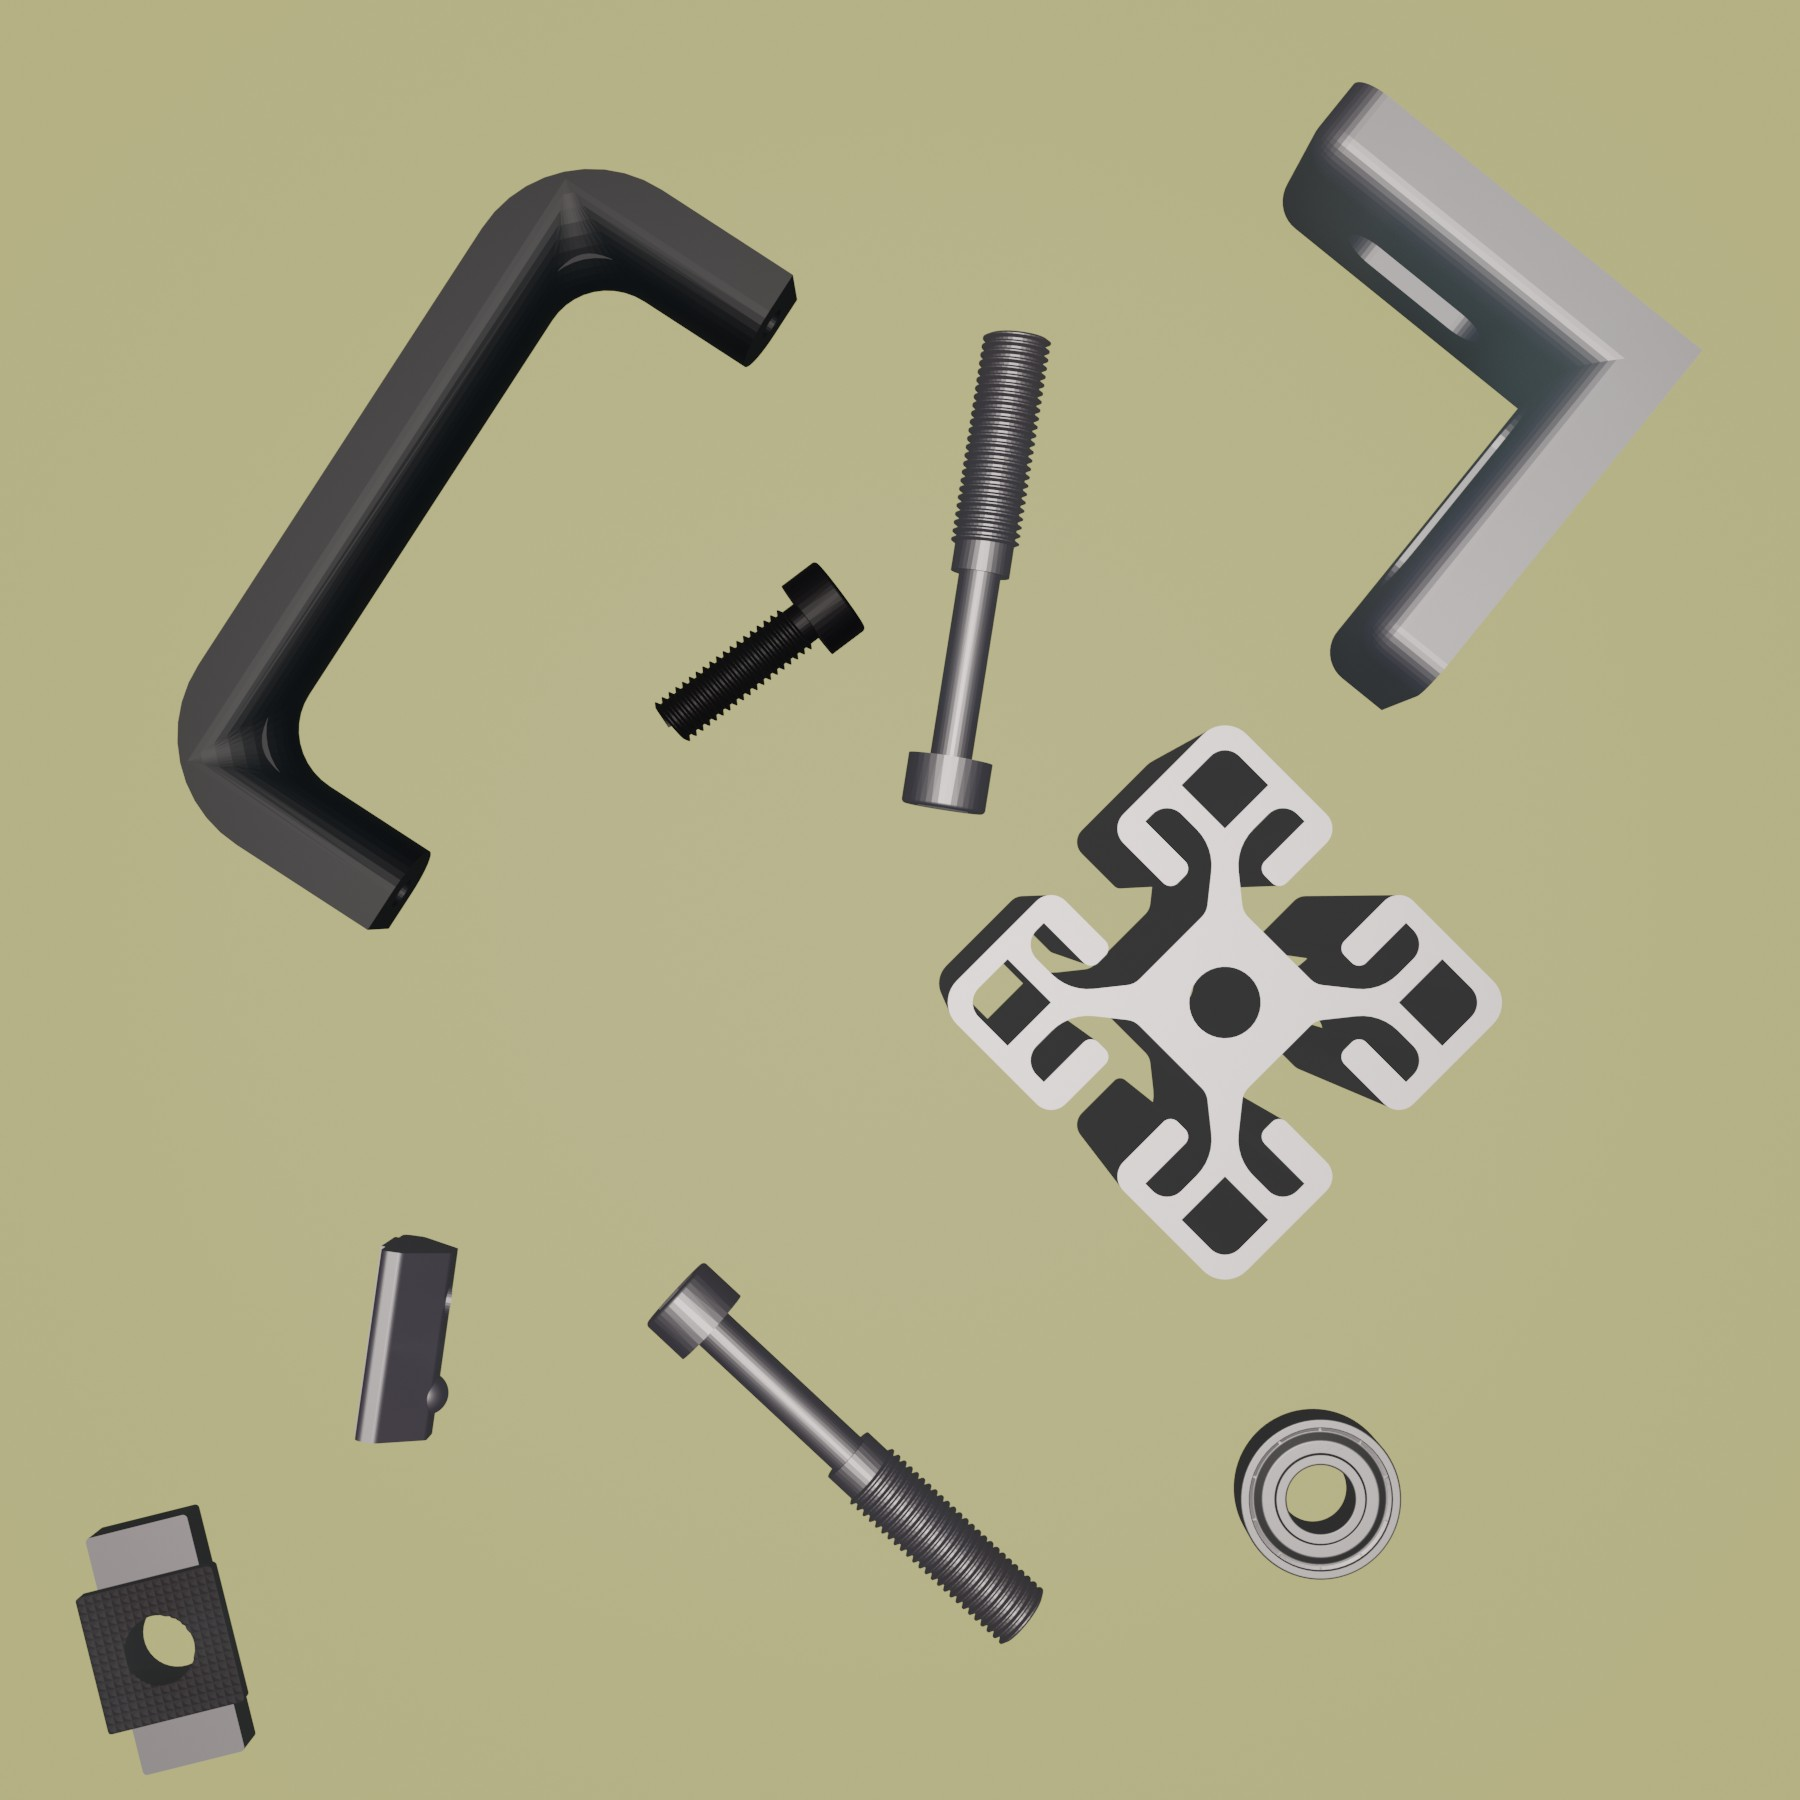Aluminium Extension: (935, 722, 1503, 1286)
Ball Bearing: (1230, 1404, 1404, 1582)
Multiwinkel: (1282, 77, 1704, 712)
Pull Handle: (176, 165, 798, 931)
Shoulder Socket Head Cap Screw: (641, 1258, 1047, 1647), (898, 326, 1055, 819)
Socket Head Cap Screw: (651, 559, 865, 745)
T Nut Square: (74, 1500, 259, 1774)
T Spring Nut: (349, 1231, 462, 1449)
